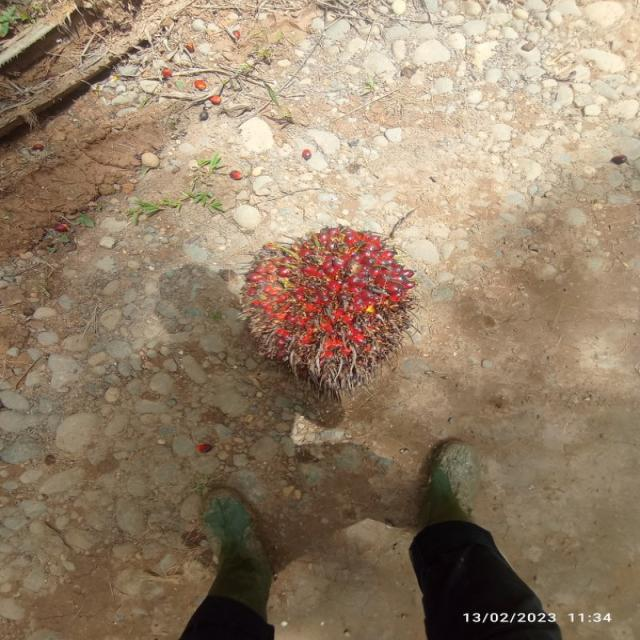fraksi 3: (201, 185, 451, 423)
